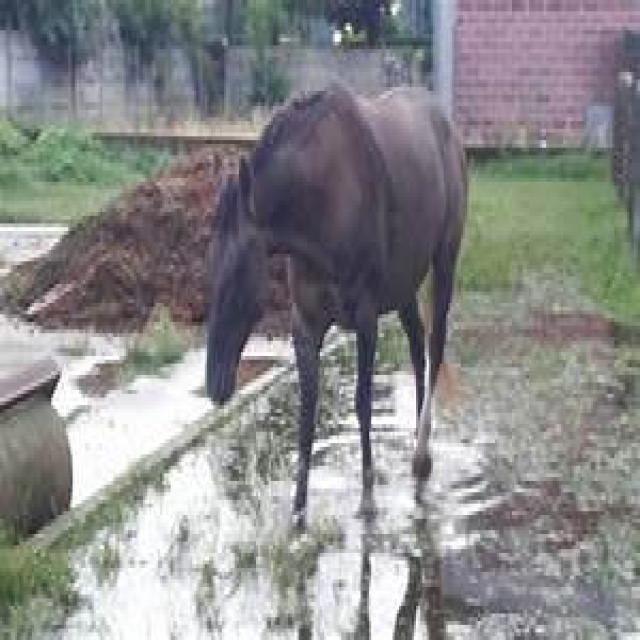horse: (206, 87, 466, 523)
